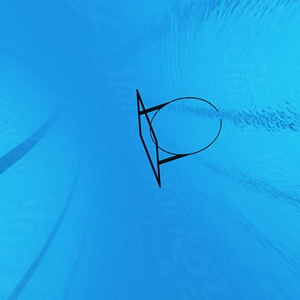circle: (132, 85, 226, 190)
